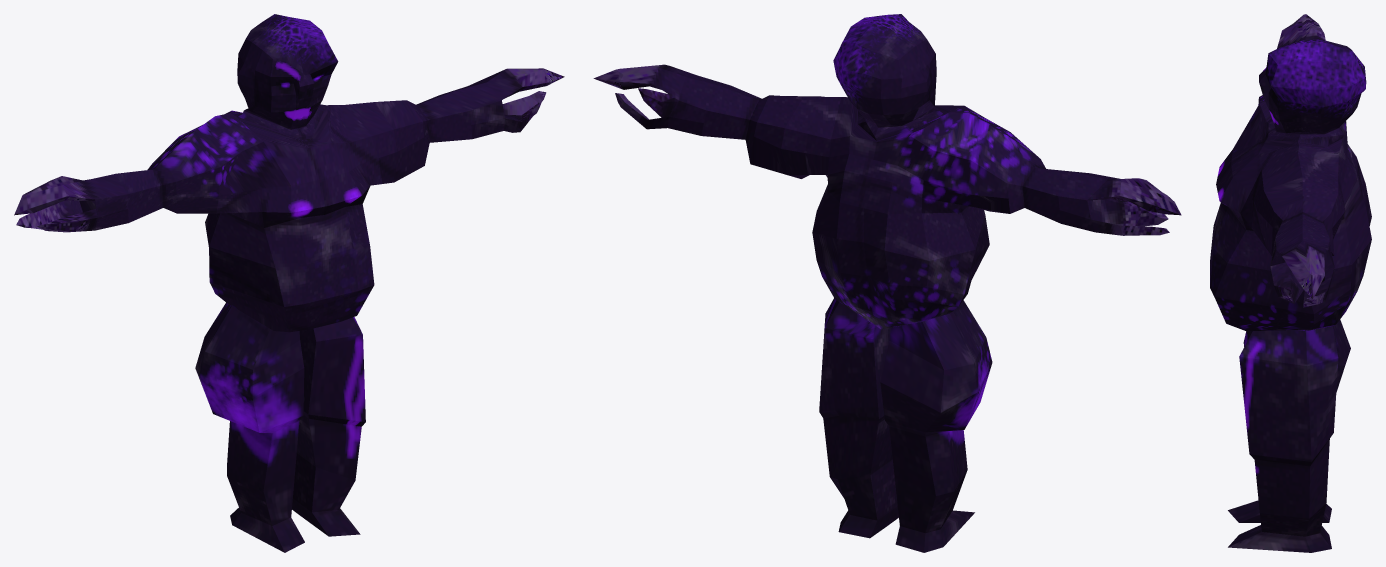
The model's file is Zoibmie.fbx.
The picture shows the model from 3 angles, left to right: view 1: azimuth 30°, elevation 25°; view 2: azimuth 150°, elevation 25°; view 3: azimuth 270°, elevation 25°; orthographic projection. The views are drawn at different scales.
Visible parts, largest first — view 1: Cube; view 2: Cube; view 3: Cube.
Boxes of the visible parts, <box> form: Cube: <box>14,14,564,552</box>; Cube: <box>593,14,1181,552</box>; Cube: <box>1210,14,1371,552</box>.
Bounding box in the file's own units: 1198 × 1007 × 300.
1 material, 1 textured.
